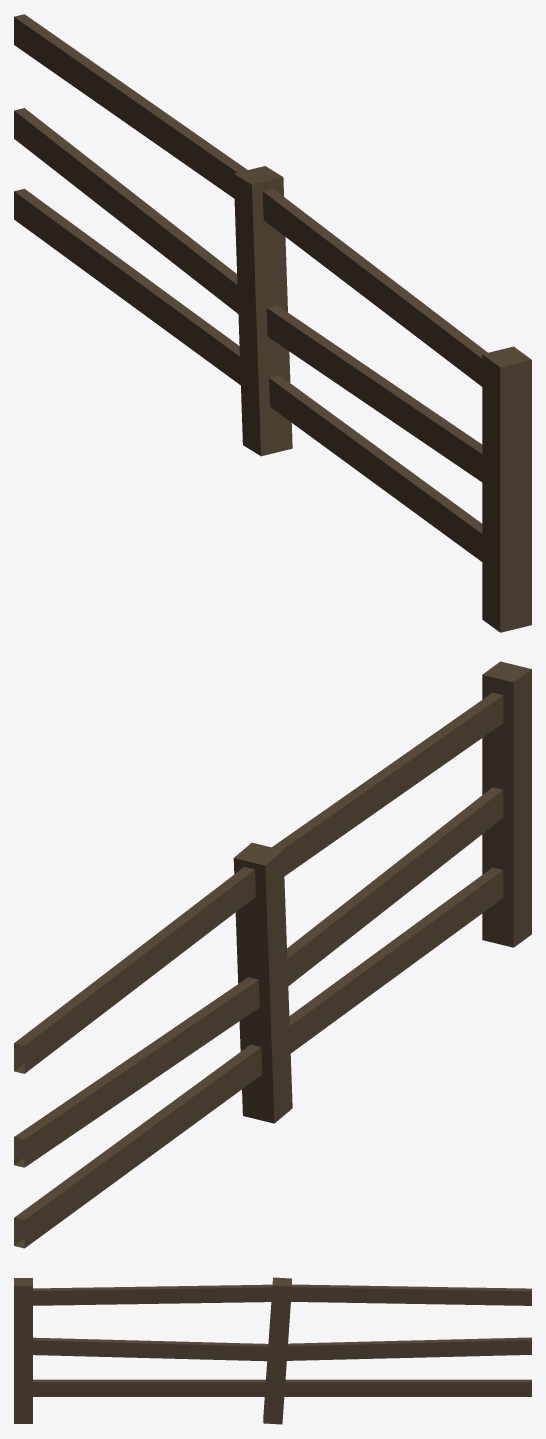
Rendered from SM_fence_102b.gltf.
The picture shows the model from 3 angles, top to bottom: view 1: azimuth 30°, elevation 25°; view 2: azimuth 150°, elevation 25°; view 3: azimuth 270°, elevation 25°; orthographic projection. The views are drawn at different scales.
Visible parts, largest first — view 1: SM_fence_102b; view 2: SM_fence_102b; view 3: SM_fence_102b.
Boxes of the visible parts, <box> form: SM_fence_102b: <box>14,14,531,632</box>; SM_fence_102b: <box>14,661,531,1248</box>; SM_fence_102b: <box>14,1277,531,1424</box>.
Bounding box in the file's own units: 0.1495 × 1.21 × 4.07.
1 material, 1 textured.
